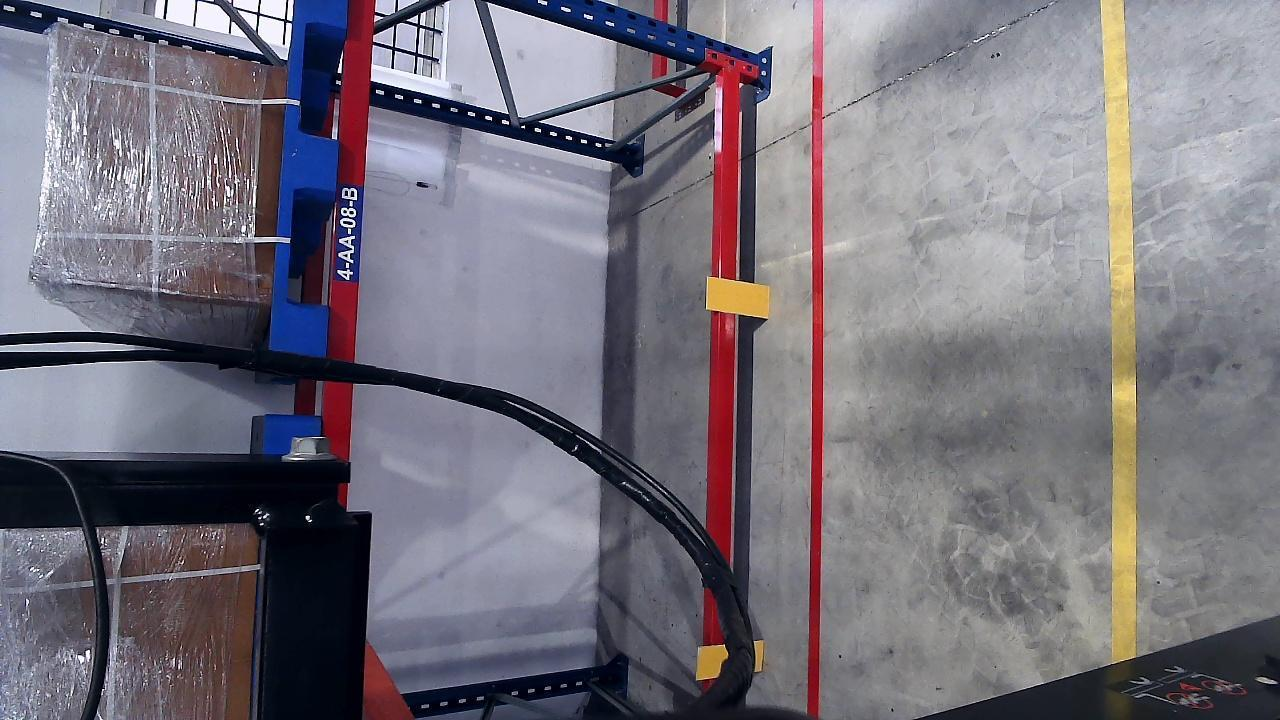red_line: (806, 8, 827, 720)
yellow_line: (1094, 1, 1138, 662)
